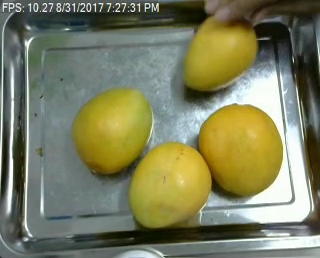Mango: (203, 102, 283, 196), (72, 85, 155, 175), (127, 141, 209, 226), (183, 15, 259, 89)
